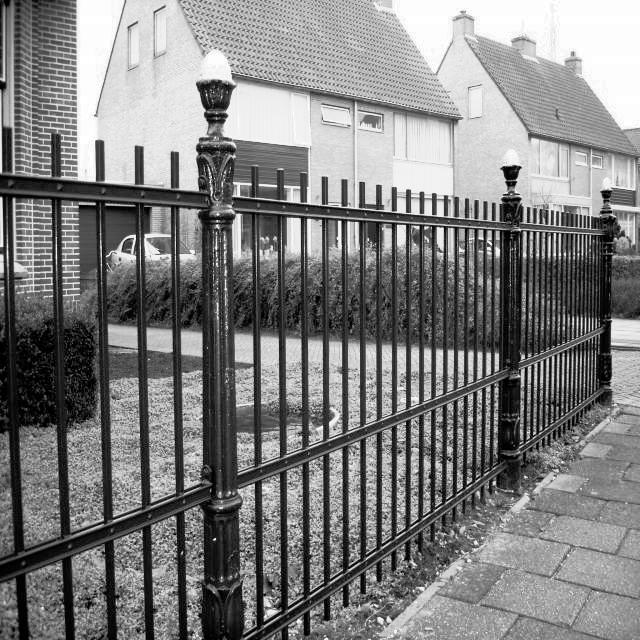fences: (23, 157, 640, 640)
